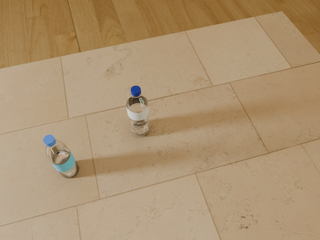bottle: (43, 135, 79, 178), (126, 86, 150, 136)
